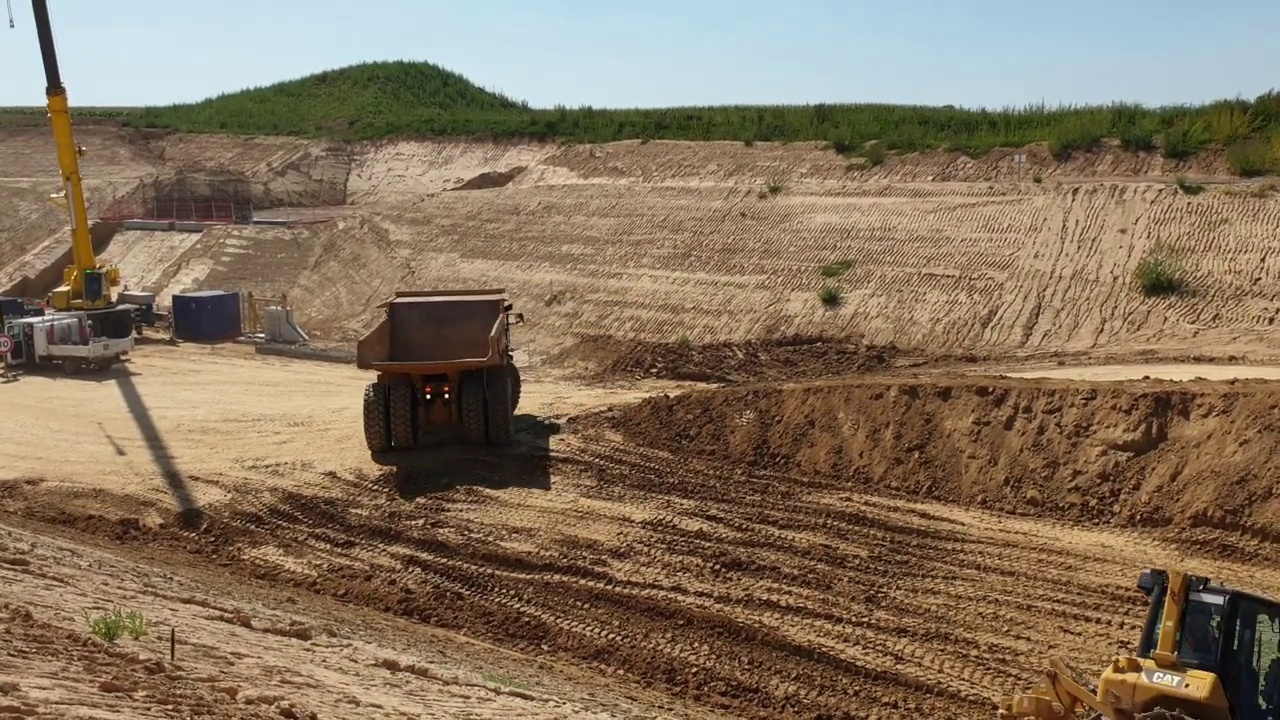bulldozer: (994, 559, 1280, 719)
crane: (1, 1, 142, 385)
truck: (353, 285, 532, 459)
